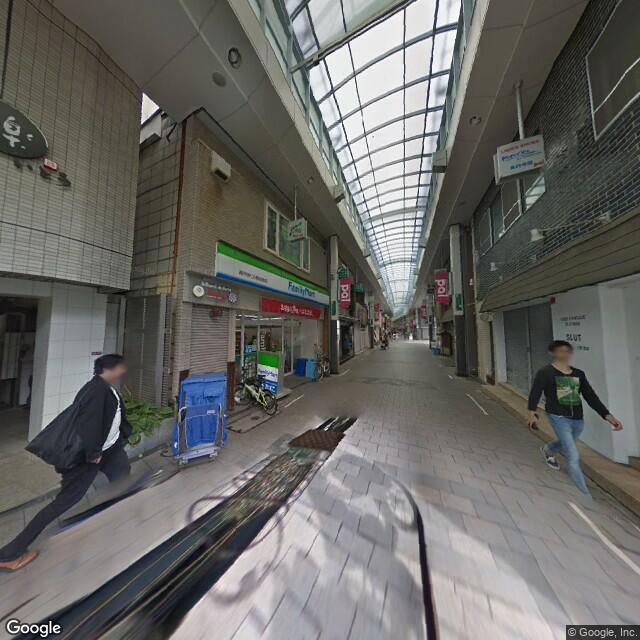family_mart: (212, 242, 332, 306), (254, 349, 278, 392), (285, 278, 318, 306)
